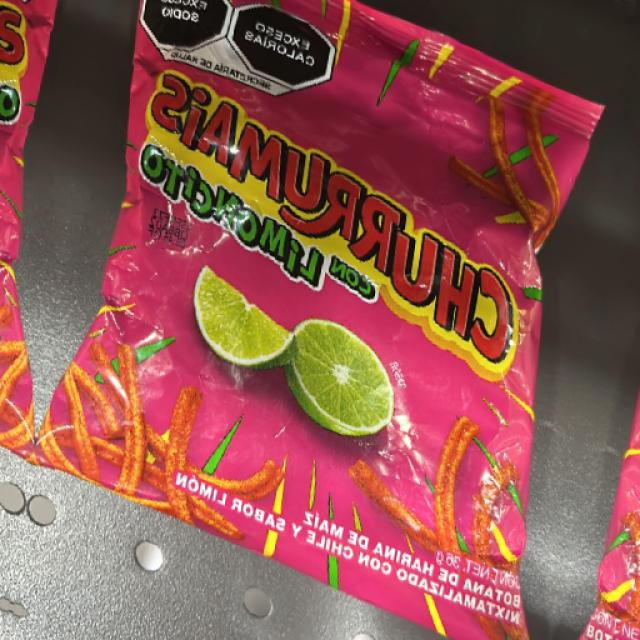churrumais: (133, 15, 538, 573)
